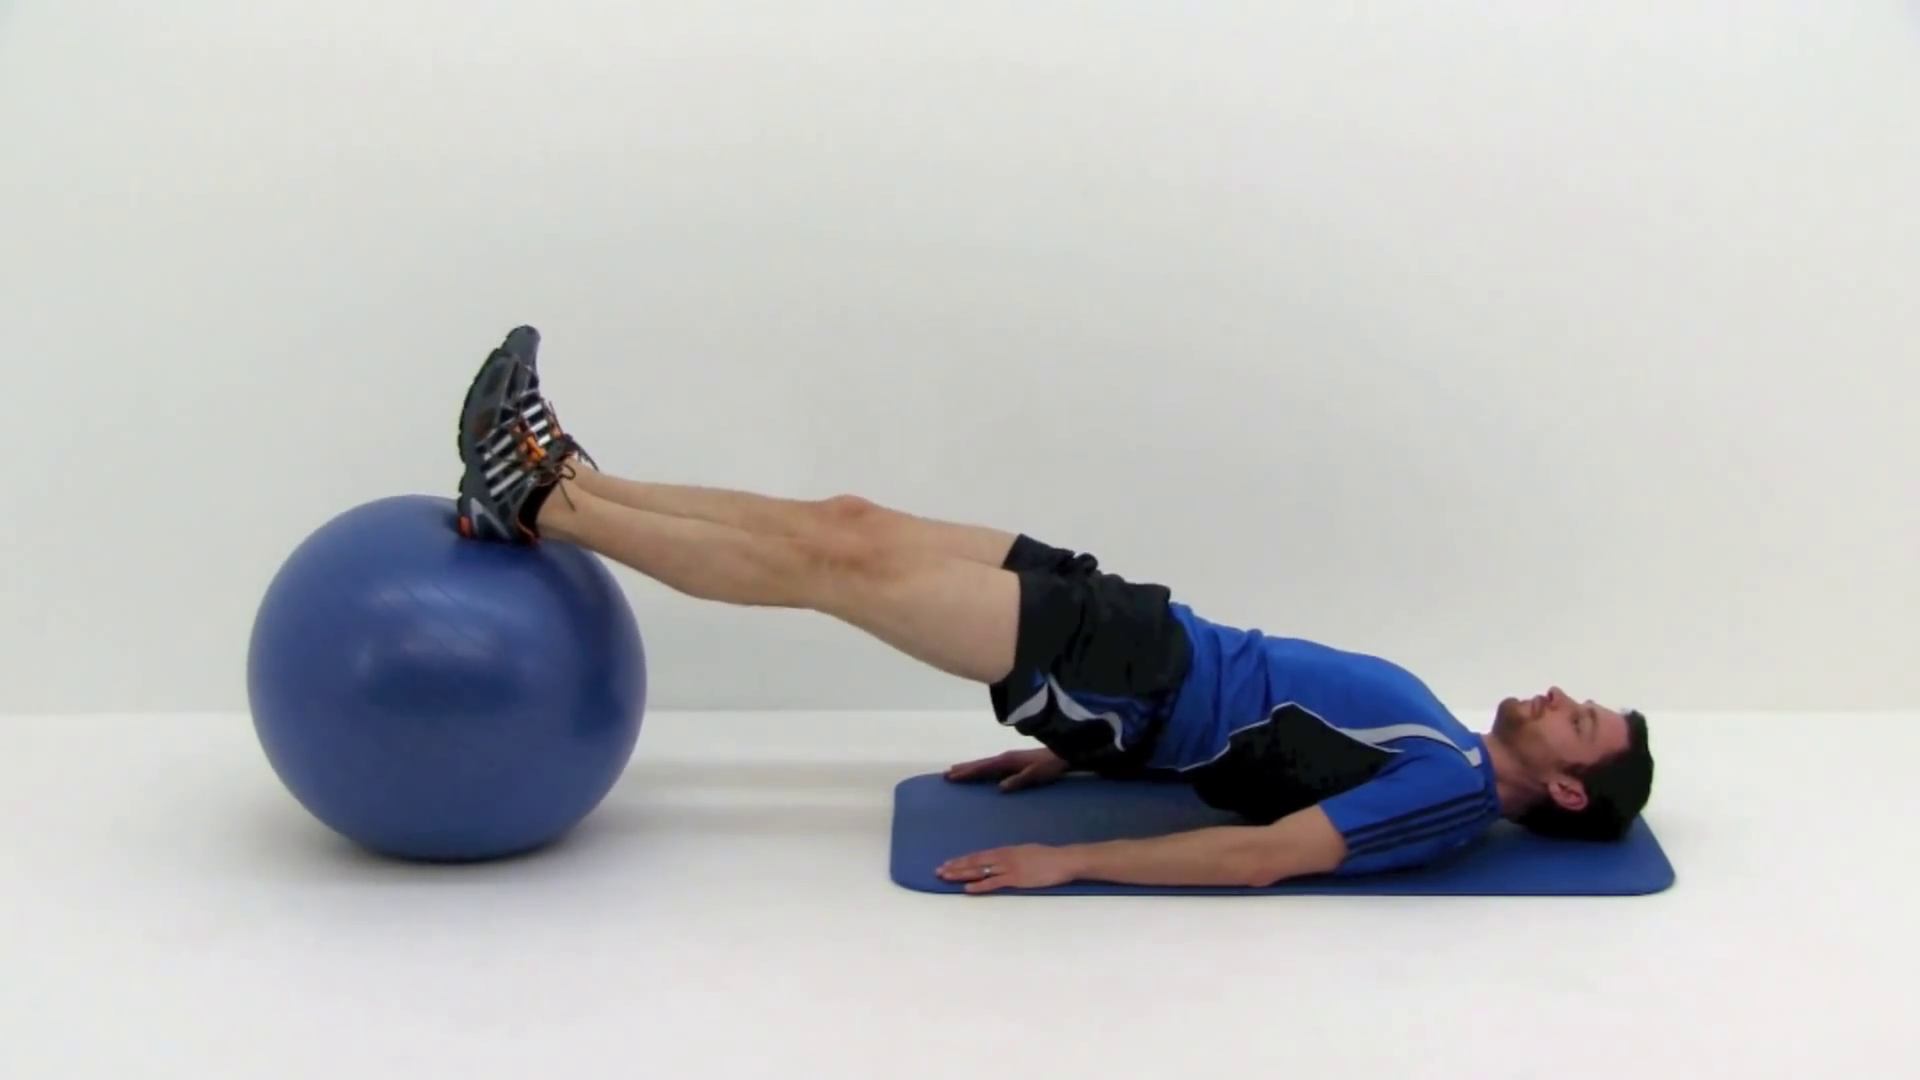yogaball: (235, 481, 669, 887)
